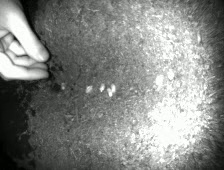corn: (152, 72, 166, 87), (83, 83, 95, 95), (108, 81, 118, 95), (105, 86, 115, 99), (57, 80, 68, 91), (98, 81, 107, 94)
